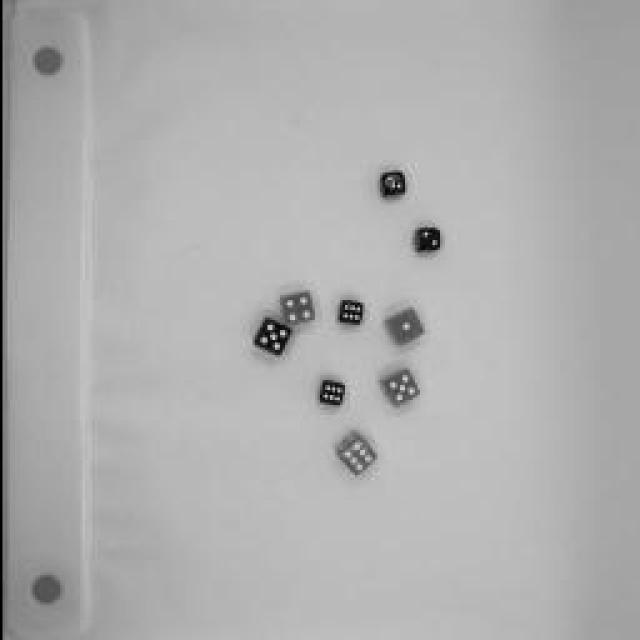dice_1: (375, 298, 425, 350)
dice_2: (405, 219, 447, 259), (374, 164, 411, 201)
dice_4: (272, 289, 318, 331)
dice_5: (374, 362, 421, 412), (246, 318, 294, 362)
dice_6: (325, 426, 380, 482), (309, 371, 349, 414), (329, 291, 369, 334)
